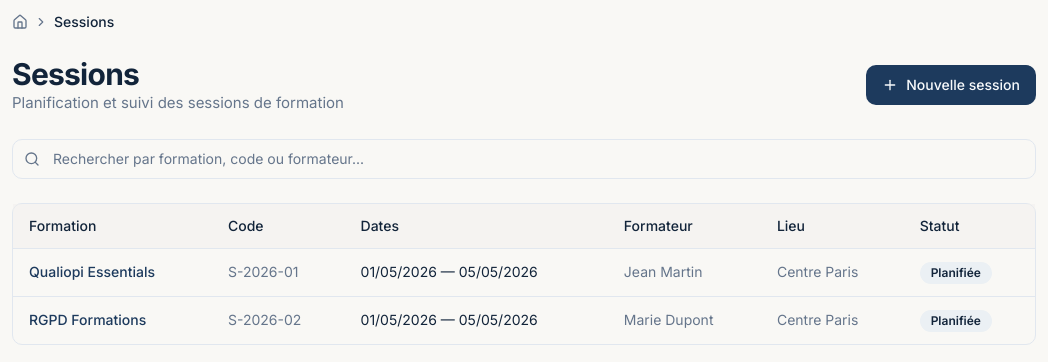
SessionsListPage › filters sessions by trainer full name
This screenshot has width=1048, height=362.
Type "dupont" into the field with placeholder "Rechercher par formation, code ou formateur..." at (524,158), box [12,138,1036,178]
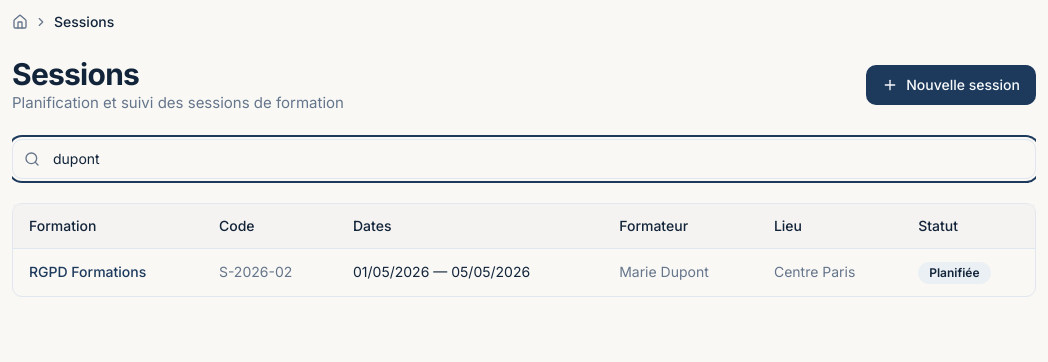
Expected: the link "RGPD Formations" is shown, [29,263,146,280]
Now the link "Qualiopi Essentials" is gone
